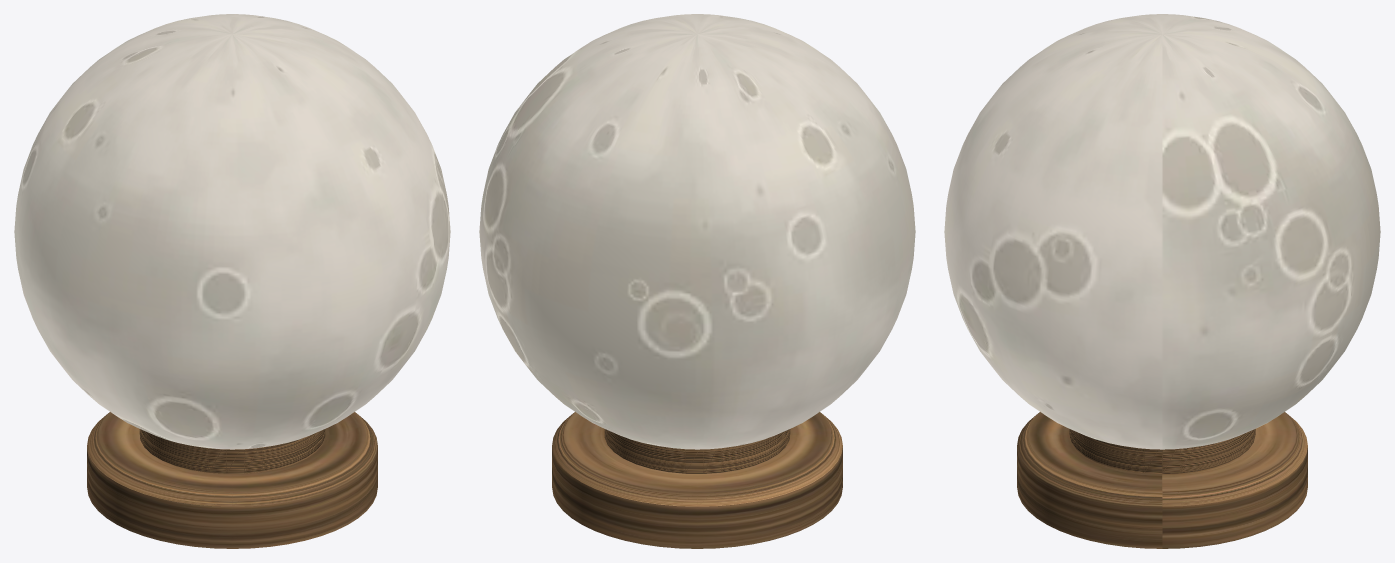
The model's file is obj-moon-lamp.glb.
The picture shows the model from 3 angles, left to right: view 1: azimuth 30°, elevation 25°; view 2: azimuth 150°, elevation 25°; view 3: azimuth 270°, elevation 25°; orthographic projection.
Visible parts, largest first — view 1: obj-moon-lamp; view 2: obj-moon-lamp; view 3: obj-moon-lamp.
Part boxes in pixels (x1,y1,x2,y2): obj-moon-lamp: [14, 14, 450, 548]; obj-moon-lamp: [479, 14, 915, 548]; obj-moon-lamp: [944, 14, 1380, 548].
Bounding box in the file's own units: 0.15 × 0.172 × 0.15.
Materials: 2 (2 with a texture image).
